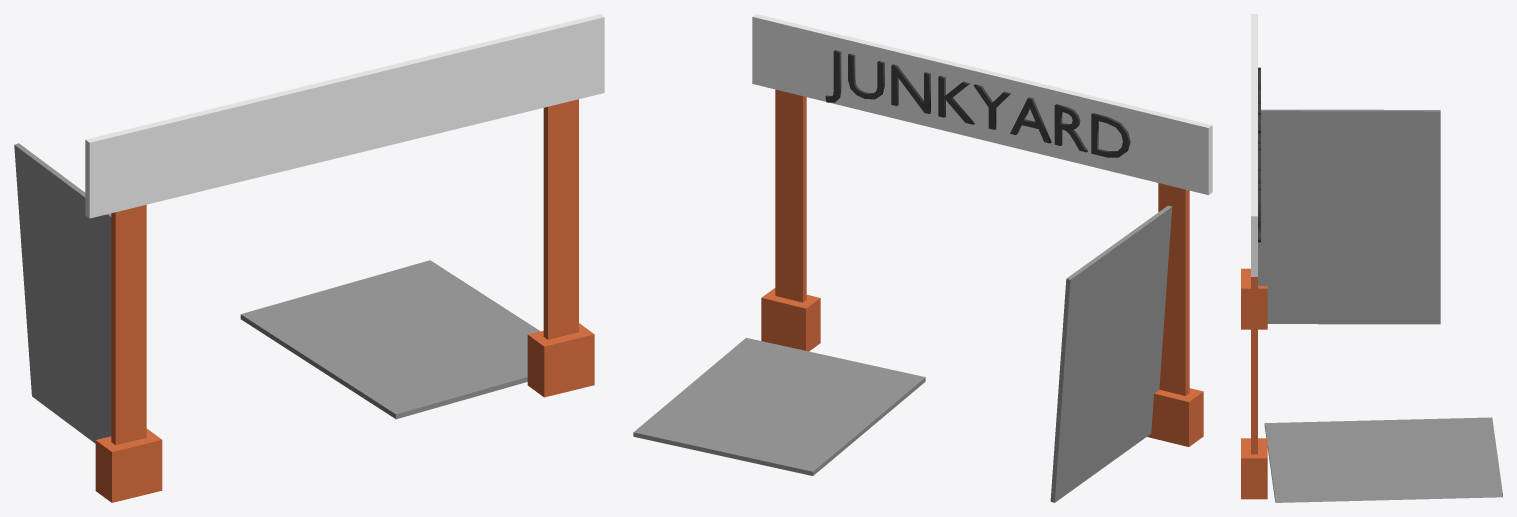
The model's file is junkyard elements.fbx.
The picture shows the model from 3 angles, left to right: view 1: azimuth 30°, elevation 25°; view 2: azimuth 150°, elevation 25°; view 3: azimuth 270°, elevation 25°; orthographic projection. The views are drawn at different scales.
Visible parts, largest first — view 1: Cube.017; view 2: Cube.017, Text Junkyard; view 3: Cube.017, Text Junkyard.
Part boxes in pixels (box(x1,y1,x2,y2)): Cube.017: box(14, 14, 604, 502); Cube.017: box(633, 14, 1212, 502); Text Junkyard: box(825, 50, 1130, 157); Cube.017: box(1241, 14, 1502, 502); Text Junkyard: box(1258, 67, 1260, 242).
Size of the model in its own units: 3117 by 2080 by 1705.
